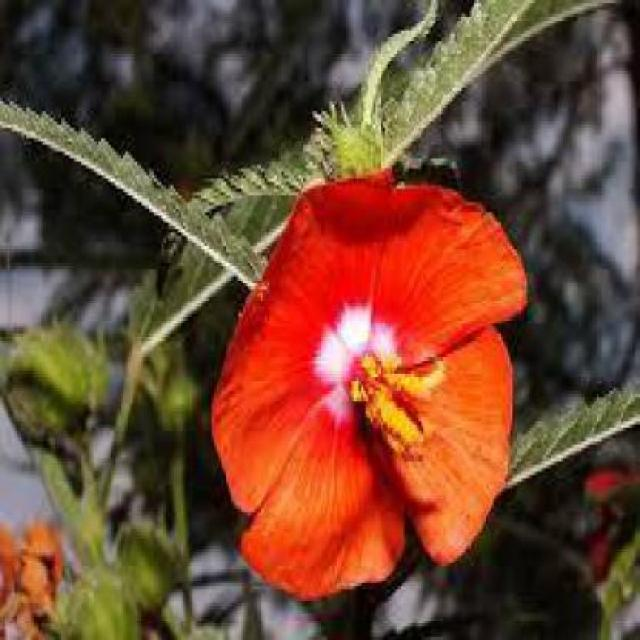flower: (212, 166, 539, 588)
